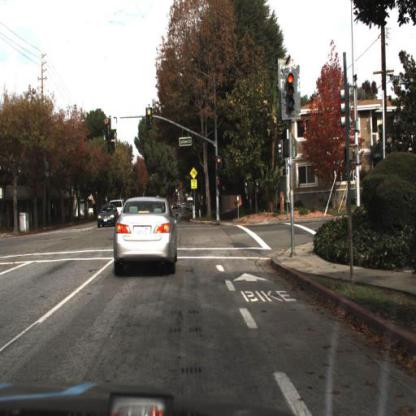car: (115, 199, 179, 273), (98, 205, 120, 227)
trafficLight-Red: (283, 68, 299, 116), (285, 68, 300, 110), (215, 150, 227, 171), (147, 109, 156, 133), (216, 156, 224, 177)
trafficLight-RedLeft: (102, 118, 112, 142)
